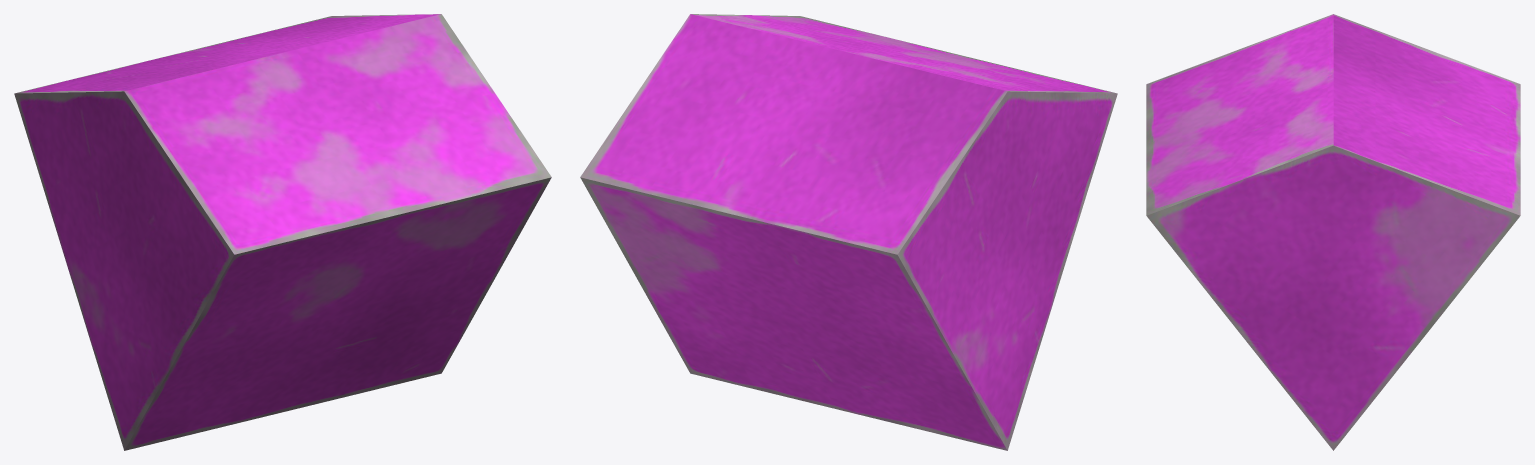
File: target-fragment-small.glb
The picture shows the model from 3 angles, left to right: view 1: azimuth 30°, elevation 25°; view 2: azimuth 150°, elevation 25°; view 3: azimuth 270°, elevation 25°; orthographic projection. The views are drawn at different scales.
Visible parts, largest first — view 1: target-fragment-small; view 2: target-fragment-small; view 3: target-fragment-small.
Boxes of the visible parts, x1,y1,x2,y2 form: target-fragment-small: (14, 14, 551, 450); target-fragment-small: (580, 14, 1117, 450); target-fragment-small: (1146, 14, 1520, 450).
Size of the model in its own units: 0.05 by 0.0541 by 0.0601.
Materials: 1 (1 with a texture image).
